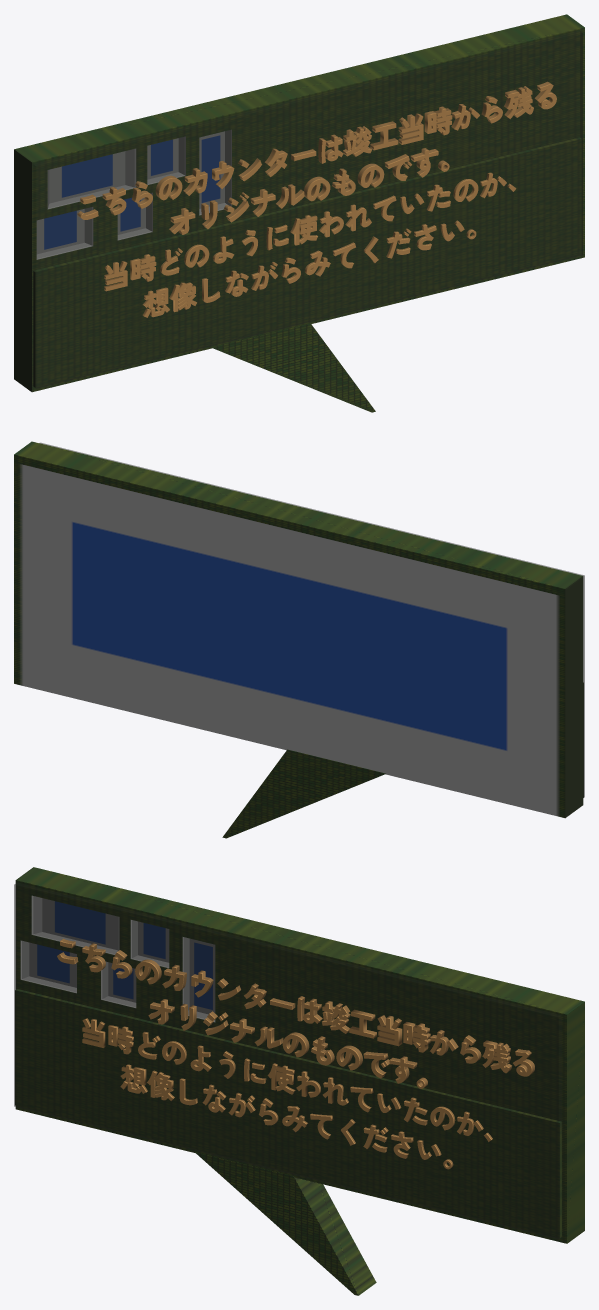
Rendered from c-fukidasi-kaunta.glb.
3 renders of one model, top to bottom at view 1: azimuth 30°, elevation 25°; view 2: azimuth 150°, elevation 25°; view 3: azimuth 330°, elevation 25°, orthographic.
Visible parts, largest first — view 1: 立方体.003, 立方体, 立方体.002, テキスト, 立方体.001; view 2: 立方体, 立方体.001, 立方体.003; view 3: 立方体.003, 立方体, 立方体.002, テキスト, 立方体.001.
Part boxes in pixels (x1,y1,x2,y2): 立方体.003: [33, 31, 582, 388]; 立方体: [14, 14, 584, 392]; 立方体.002: [33, 137, 581, 387]; テキスト: [77, 81, 556, 317]; 立方体.001: [211, 323, 375, 412]; 立方体: [14, 441, 583, 818]; 立方体.001: [222, 749, 385, 838]; 立方体.003: [39, 442, 584, 797]; 立方体.003: [14, 883, 561, 1239]; 立方体: [15, 867, 584, 1243]; 立方体.002: [15, 989, 561, 1238]; テキスト: [57, 938, 534, 1169]; 立方体.001: [195, 1152, 376, 1295].
Size of the model in its own units: 11.12 by 6.4 by 0.7575.
5 materials, 3 textured.
